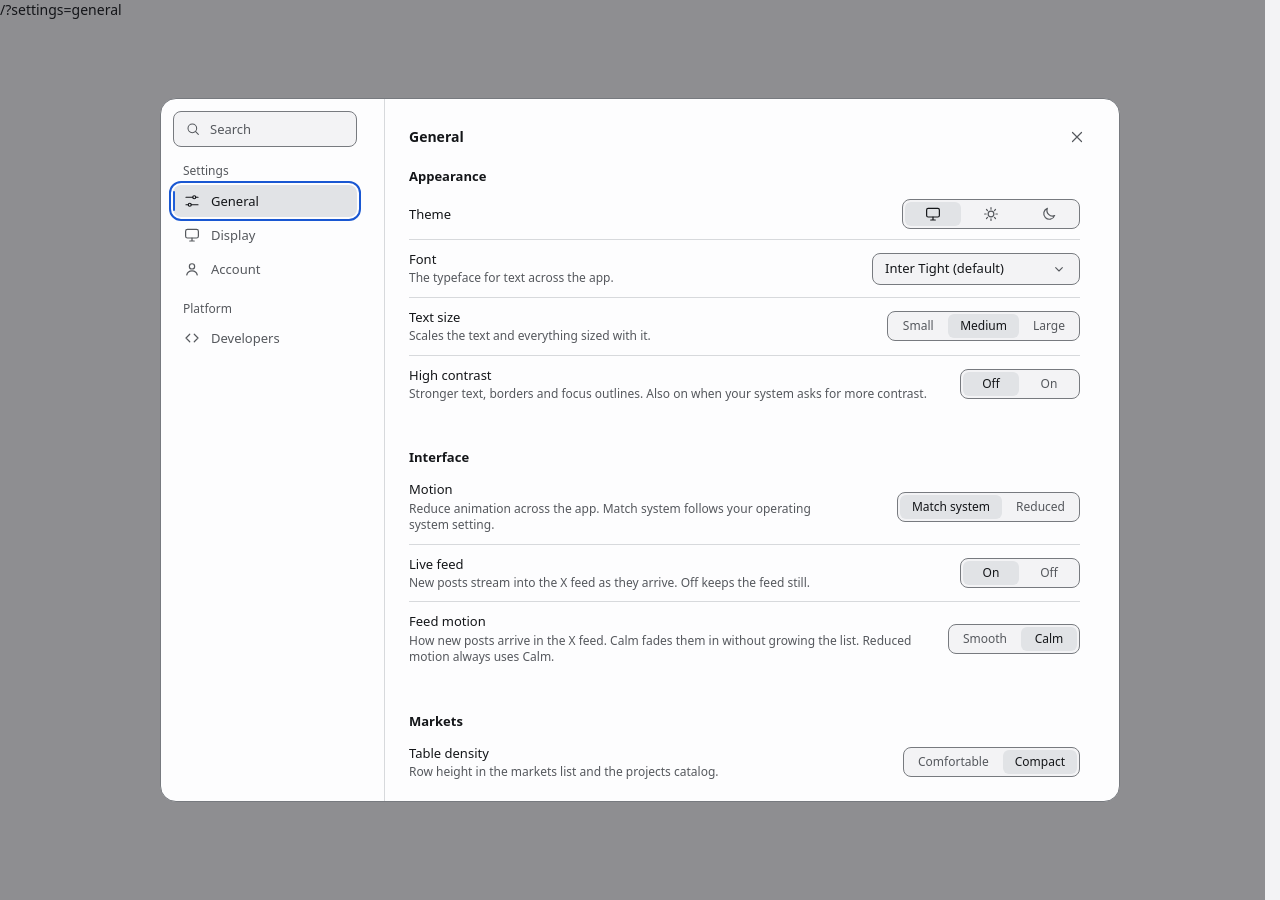
Test: search › filters rows across all sections by label and groups them by section
Type "odds" into the search field at (265, 129), box 173,111 -> 357,147
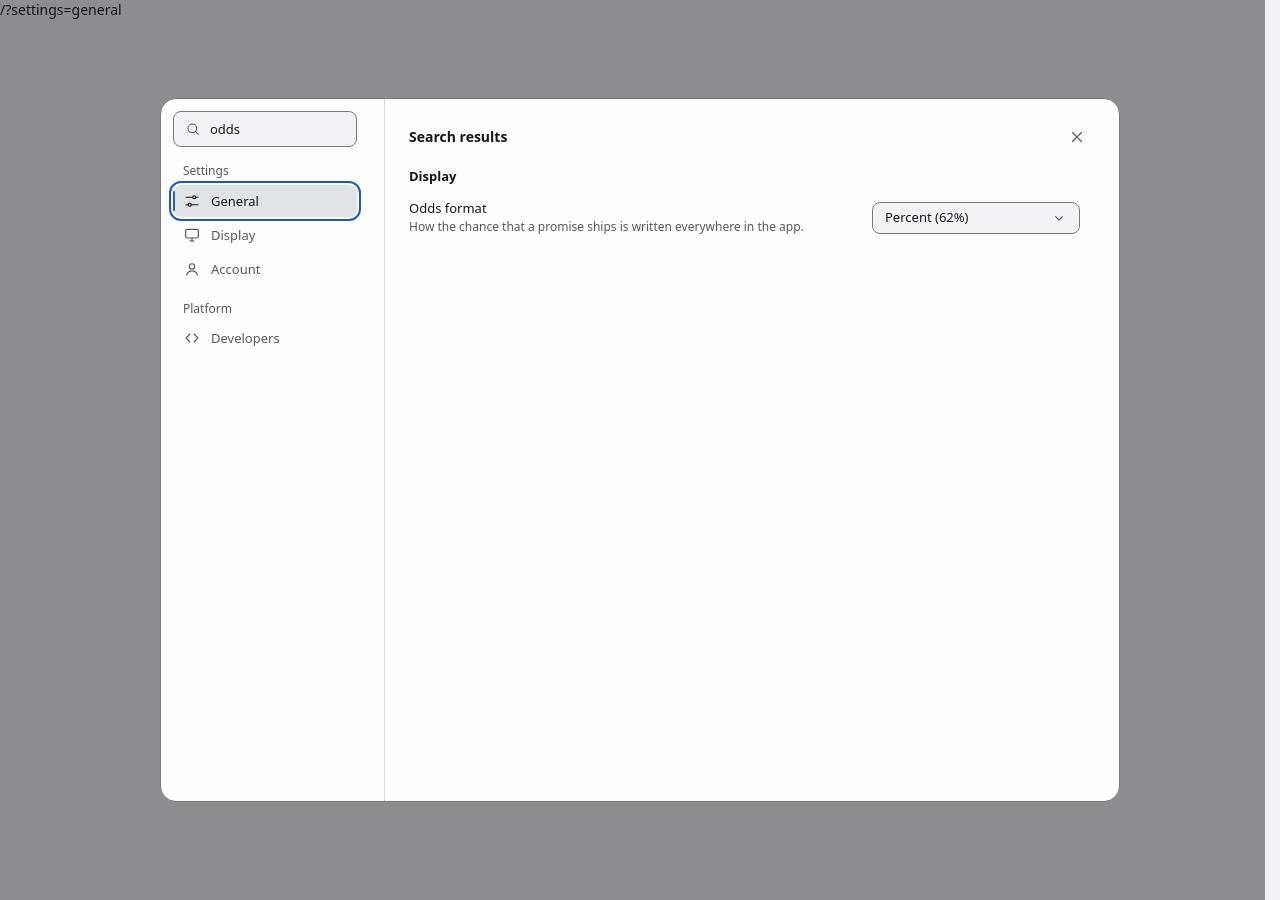
Result: the element "Display" is shown at 409,163 -> 1080,246
Result: the dropdown named "Odds format" is shown at 872,202 -> 1080,234
Result: the text "Motion" is gone
